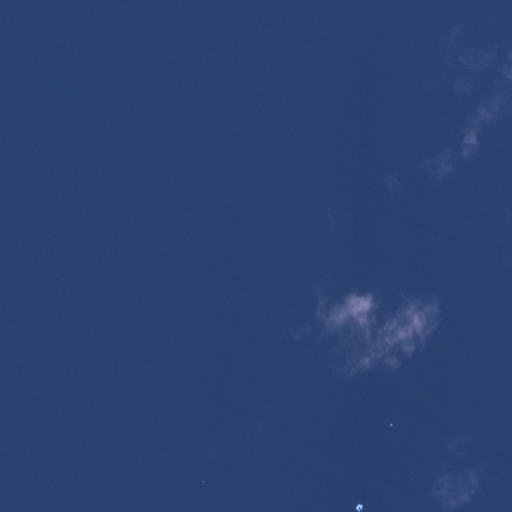Iceberg: (355, 504, 362, 511), (389, 423, 392, 426), (203, 481, 204, 482)
